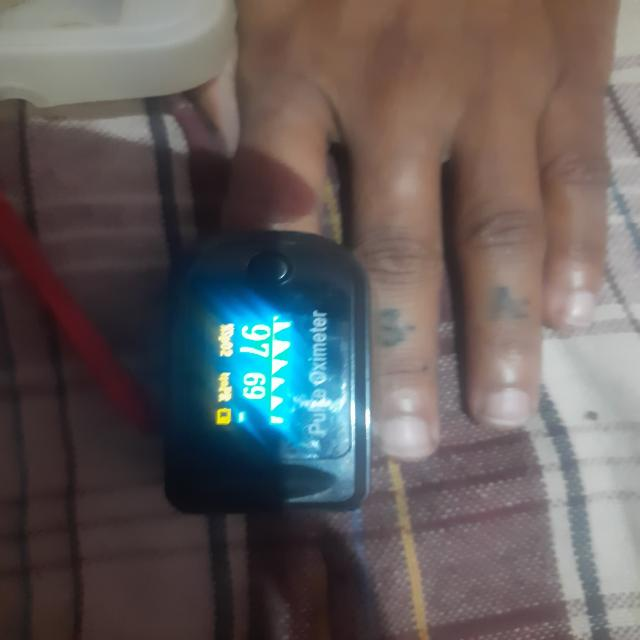display: (201, 291, 350, 458)
frame: (236, 315, 274, 362), (238, 368, 269, 406)
gauge: (160, 232, 369, 519)
